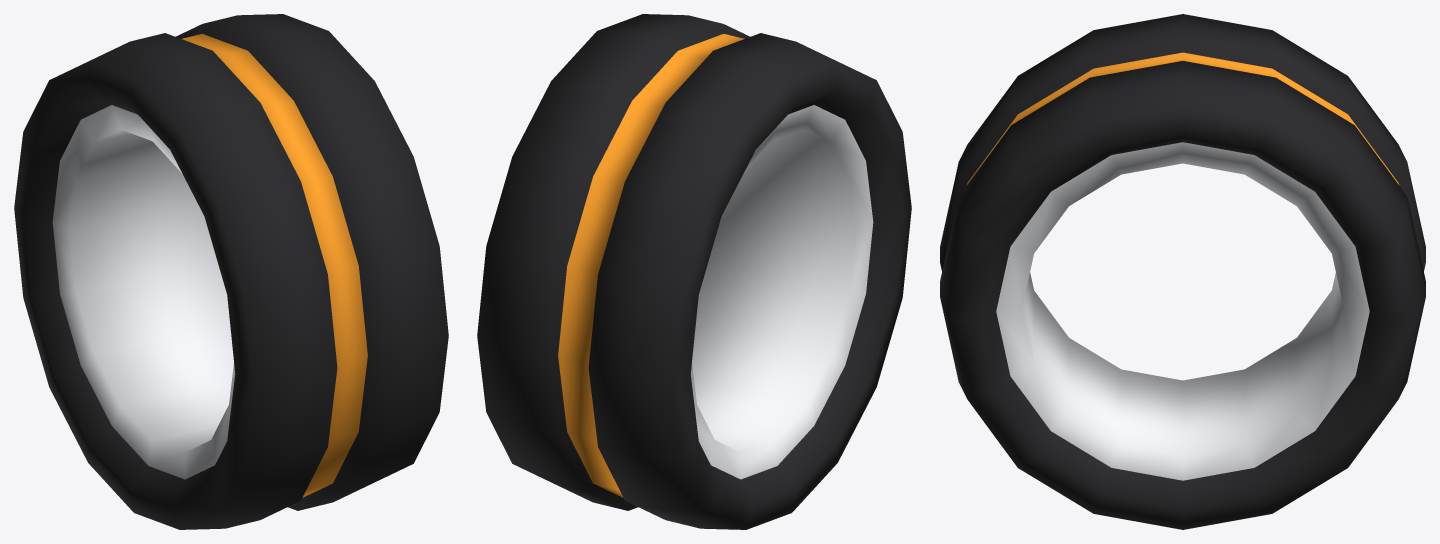
Rendered from band.glb.
The picture shows the model from 3 angles, left to right: view 1: azimuth 30°, elevation 25°; view 2: azimuth 150°, elevation 25°; view 3: azimuth 270°, elevation 25°; orthographic projection. The views are drawn at different scales.
Visible parts, largest first — view 1: Tyre; view 2: Tyre; view 3: Tyre.
Boxes of the visible parts, x1,y1,x2,y2 form: Tyre: [14, 14, 448, 529]; Tyre: [477, 14, 911, 529]; Tyre: [940, 14, 1425, 529].
Bounding box in the file's own units: 0.49 × 1.04 × 1.04.
